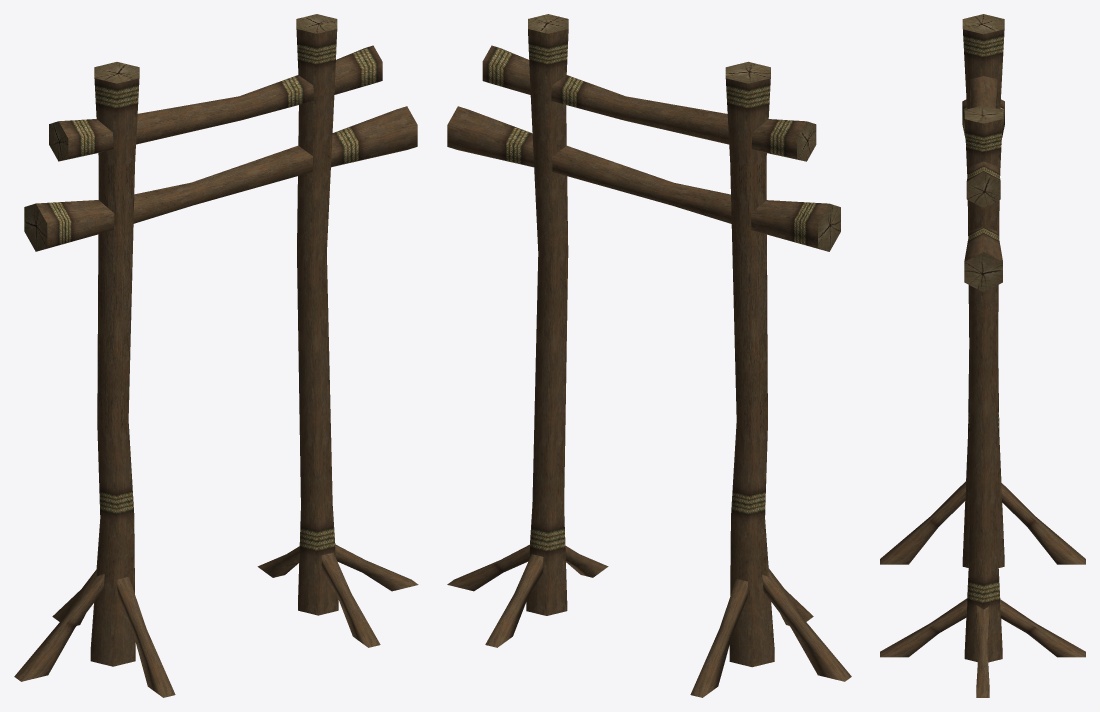
File: environment_common_tiediaolong_001_b.FBX
3 renders of one model, left to right at view 1: azimuth 30°, elevation 25°; view 2: azimuth 150°, elevation 25°; view 3: azimuth 270°, elevation 25°, orthographic. The views are drawn at different scales.
Parts seen in each view (by area): view 1: environment_common_tiediaolong_001_b; view 2: environment_common_tiediaolong_001_b; view 3: environment_common_tiediaolong_001_b.
Part boxes in pixels (left/top/right/bottom): environment_common_tiediaolong_001_b: left=14, top=14, right=418, bottom=697; environment_common_tiediaolong_001_b: left=447, top=14, right=851, bottom=697; environment_common_tiediaolong_001_b: left=880, top=14, right=1085, bottom=697.
Bounding box in the file's own units: 280 × 392 × 136.
